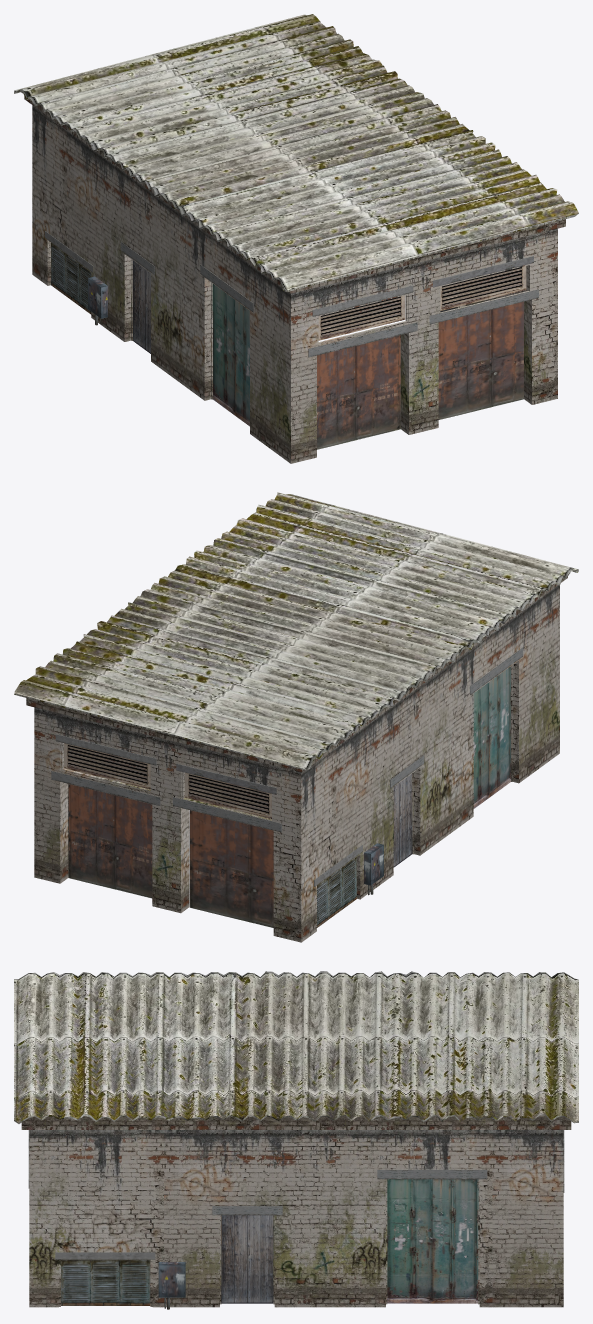
3 views of the same model, one above another, from view 1: azimuth 30°, elevation 25°; view 2: azimuth 150°, elevation 25°; view 3: azimuth 270°, elevation 25° (orthographic). The views are drawn at different scales.
Parts seen in each view (by area): view 1: Box001_Material #2100603824_0, Box001_Material #2100603827_0, Box001_Material #26_0, Box001_Material #2100603823_0, Box001_Material #2100603821_0, Box001_Material #2100603818_0, Box001_Material #2100603822_0, Box001_Material #2100603820_0, Box001_Material #2100603819_0, Box001_Material #2100603825_0; view 2: Box001_Material #2100603824_0, Box001_Material #2100603827_0, Box001_Material #26_0, Box001_Material #2100603823_0, Box001_Material #2100603821_0, Box001_Material #2100603818_0, Box001_Material #2100603822_0, Box001_Material #2100603820_0, Box001_Material #2100603819_0, Box001_Material #2100603825_0; view 3: Box001_Material #2100603824_0, Box001_Material #2100603827_0, Box001_Material #2100603818_0, Box001_Material #2100603822_0, Box001_Material #2100603819_0, Box001_Material #2100603820_0, Box001_Material #2100603823_0, Box001_Material #2100603825_0.
Boxes of the visible parts, box(x1,y1,x2,y2) form: Box001_Material #2100603824_0: box(14, 14, 578, 292); Box001_Material #2100603827_0: box(32, 105, 557, 463); Box001_Material #26_0: box(317, 301, 523, 449); Box001_Material #2100603823_0: box(44, 231, 538, 357); Box001_Material #2100603821_0: box(318, 266, 526, 340); Box001_Material #2100603818_0: box(212, 284, 249, 426); Box001_Material #2100603822_0: box(24, 96, 565, 293); Box001_Material #2100603820_0: box(51, 243, 91, 314); Box001_Material #2100603819_0: box(132, 260, 457, 353); Box001_Material #2100603825_0: box(88, 276, 107, 318); Box001_Material #2100603824_0: box(14, 492, 578, 770); Box001_Material #2100603827_0: box(34, 585, 559, 942); Box001_Material #26_0: box(68, 784, 273, 927); Box001_Material #2100603823_0: box(51, 647, 523, 886); Box001_Material #2100603821_0: box(64, 743, 271, 818); Box001_Material #2100603818_0: box(473, 666, 510, 808); Box001_Material #2100603822_0: box(26, 577, 567, 772); Box001_Material #2100603820_0: box(317, 857, 356, 927); Box001_Material #2100603819_0: box(393, 774, 412, 867); Box001_Material #2100603825_0: box(364, 843, 383, 885); Box001_Material #2100603824_0: box(14, 971, 578, 1123); Box001_Material #2100603827_0: box(29, 1130, 563, 1307); Box001_Material #2100603818_0: box(387, 1179, 478, 1303); Box001_Material #2100603822_0: box(21, 1115, 571, 1129); Box001_Material #2100603819_0: box(221, 1215, 273, 1303); Box001_Material #2100603820_0: box(61, 1259, 150, 1305); Box001_Material #2100603823_0: box(28, 1130, 564, 1259); Box001_Material #2100603825_0: box(158, 1262, 185, 1297).
Bounding box in the file's own units: 7153 × 4388 × 11293.
11 materials, 11 textured.
